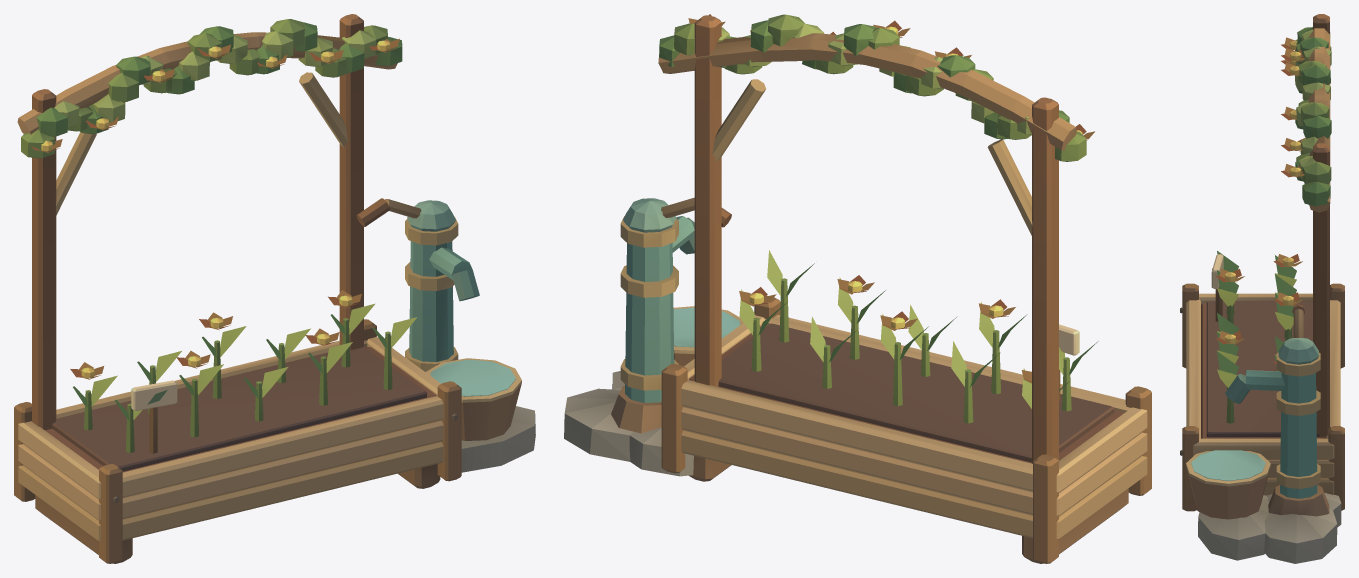
File: town_pergola.glb
3 renders of one model, left to right at view 1: azimuth 30°, elevation 25°; view 2: azimuth 150°, elevation 25°; view 3: azimuth 270°, elevation 25°, orthographic. The views are drawn at different scales.
Visible parts, largest first — view 1: Spalier der Abendblüher; view 2: Spalier der Abendblüher; view 3: Spalier der Abendblüher.
Part boxes in pixels (left/top/right/bottom): Spalier der Abendblüher: left=14, top=14, right=535, bottom=563; Spalier der Abendblüher: left=564, top=14, right=1151, bottom=563; Spalier der Abendblüher: left=1180, top=14, right=1344, bottom=563.
Bounding box in the file's own units: 2.3 × 2.09 × 0.7969.
